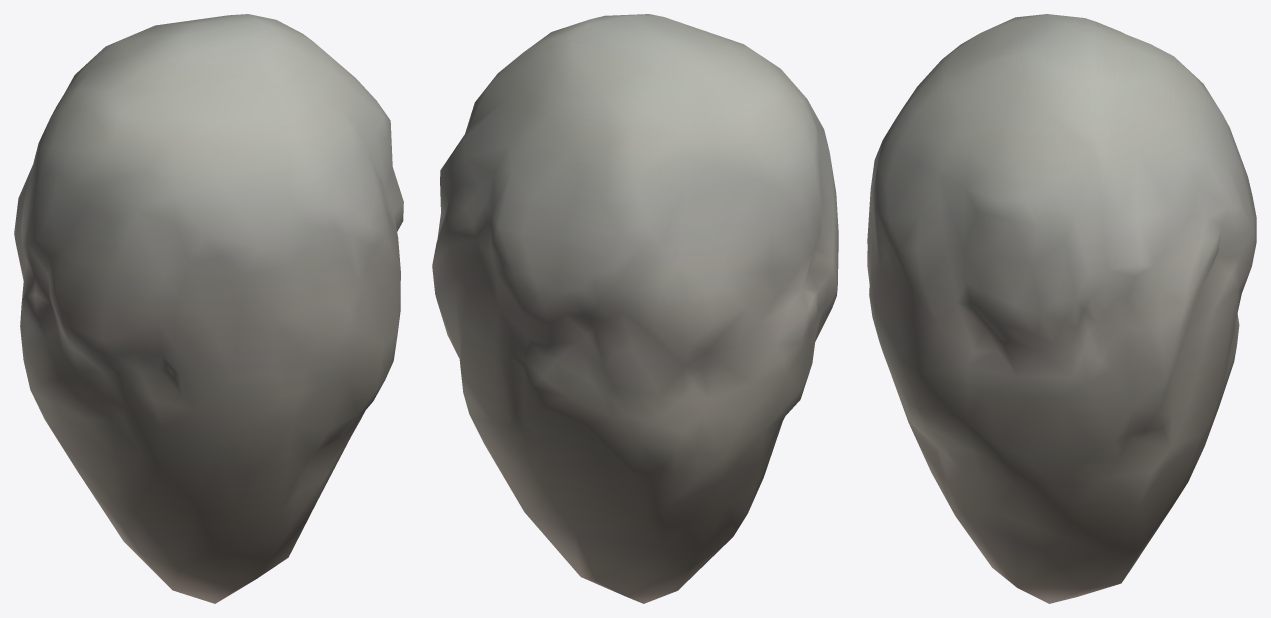
The model's file is Floating_Island_02.fbx.
3 views of the same model, side by side, from view 1: azimuth 30°, elevation 25°; view 2: azimuth 150°, elevation 25°; view 3: azimuth 270°, elevation 25° (orthographic).
Parts seen in each view (by area): view 1: floating_island_02; view 2: floating_island_02; view 3: floating_island_02.
Part boxes in pixels (<box>): floating_island_02: <box>14,14,403,603</box>; floating_island_02: <box>432,14,838,603</box>; floating_island_02: <box>867,14,1256,603</box>.
Bounding box in the file's own units: 1.75 × 2.69 × 1.67.
Materials: 1 (1 with a texture image).
